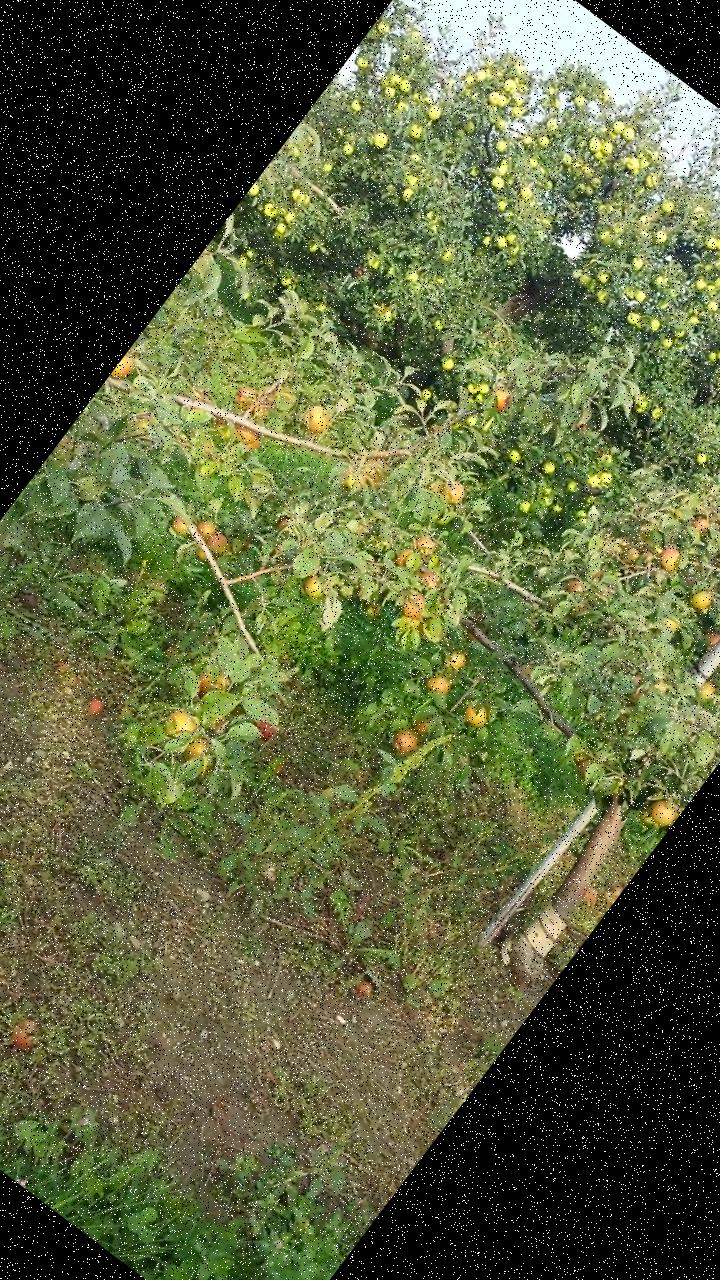Apple: (190, 664, 233, 709), (162, 701, 204, 742), (644, 796, 680, 832), (108, 351, 142, 388), (299, 400, 334, 435), (202, 526, 237, 561), (391, 722, 425, 758), (685, 582, 718, 616), (462, 697, 495, 730), (415, 614, 449, 646), (424, 666, 457, 698), (181, 734, 211, 768), (654, 540, 685, 572), (230, 380, 261, 412), (487, 382, 518, 413), (398, 589, 429, 620), (439, 477, 470, 507), (635, 800, 665, 830), (299, 572, 329, 602), (411, 532, 440, 560), (232, 420, 261, 448), (398, 604, 427, 632), (441, 646, 469, 674), (416, 566, 444, 592), (240, 432, 264, 458), (195, 514, 219, 538), (621, 544, 644, 568), (168, 515, 192, 538), (574, 756, 596, 781), (658, 614, 682, 636), (697, 677, 719, 701), (424, 476, 448, 498), (689, 514, 711, 536), (340, 472, 362, 494), (650, 674, 672, 695), (564, 578, 586, 598), (252, 718, 274, 738), (413, 716, 434, 736), (396, 545, 415, 567), (701, 626, 719, 649), (365, 600, 384, 620), (276, 514, 294, 534), (194, 546, 212, 562), (572, 749, 588, 766), (629, 670, 645, 686)
